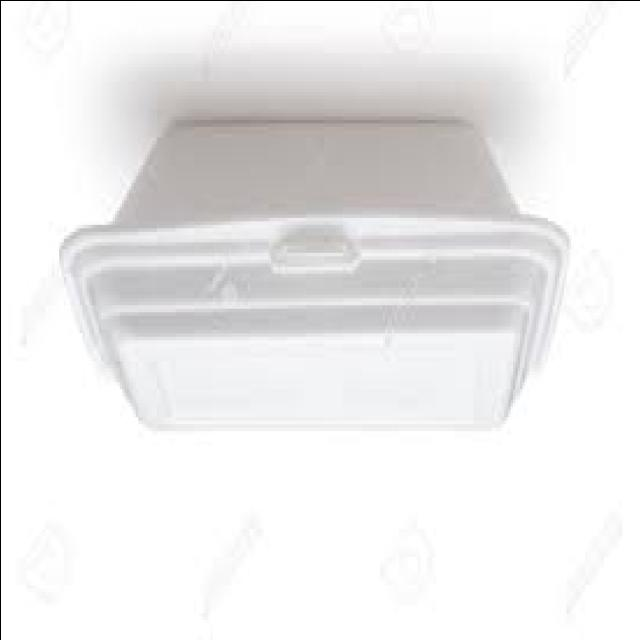styrofoam: (60, 124, 565, 426)
